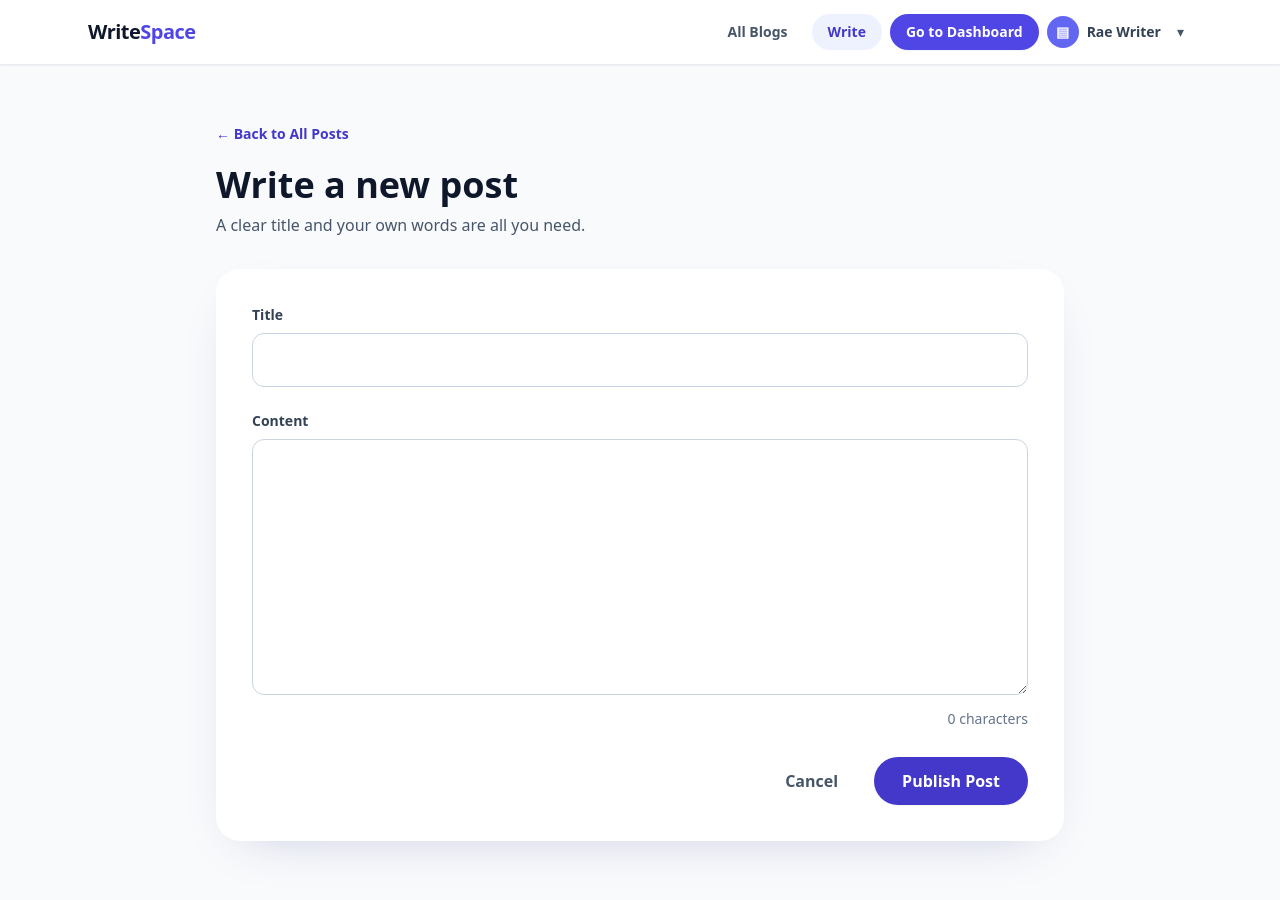
Test: blog pages › creates a post with required-field errors and a character counter
expect the text "0 characters" is shown: met, box [948,709,1028,728]
Step 1. Click the button "Publish Post" → click(951, 781), box [874,757,1028,805]
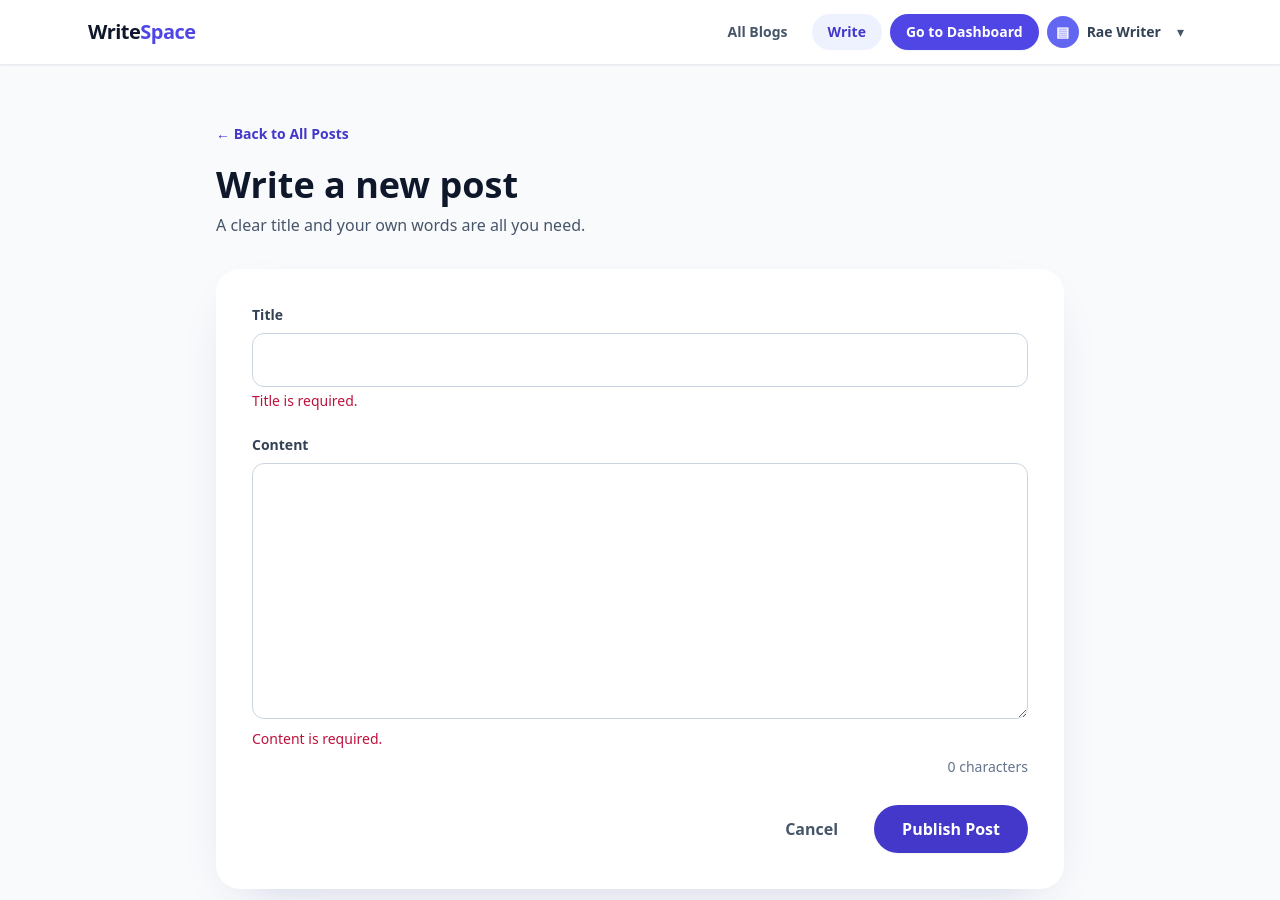
expect the text "Title is required." is shown: met, box [252,391,358,410]
expect the text "Content is required." is shown: met, box [252,729,382,748]
